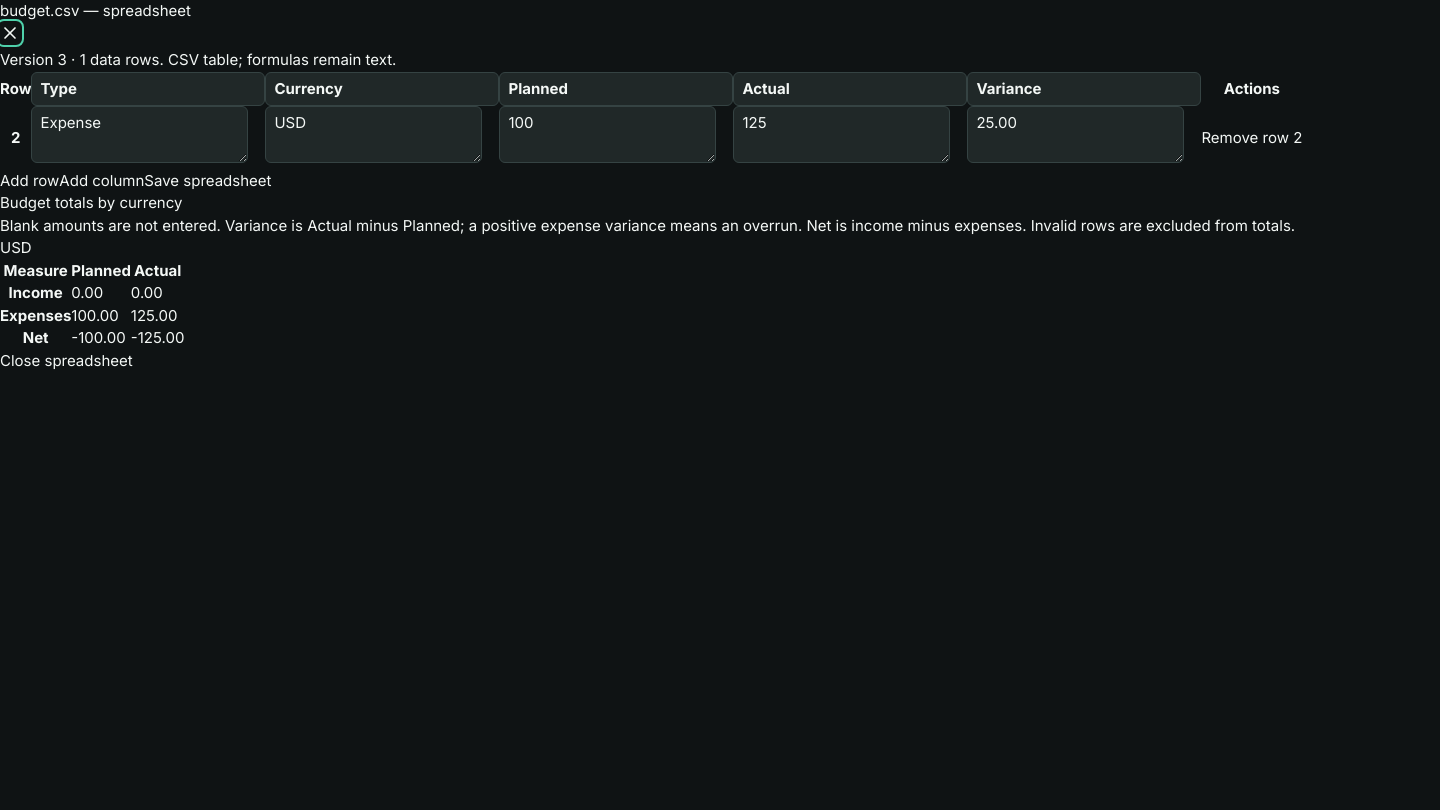
Test: preserves cells after a conflicting save and uses the original version
Replace the text in the text box named "Row 2, Actual" with "150" at point(842, 134), box [733, 106, 950, 163]
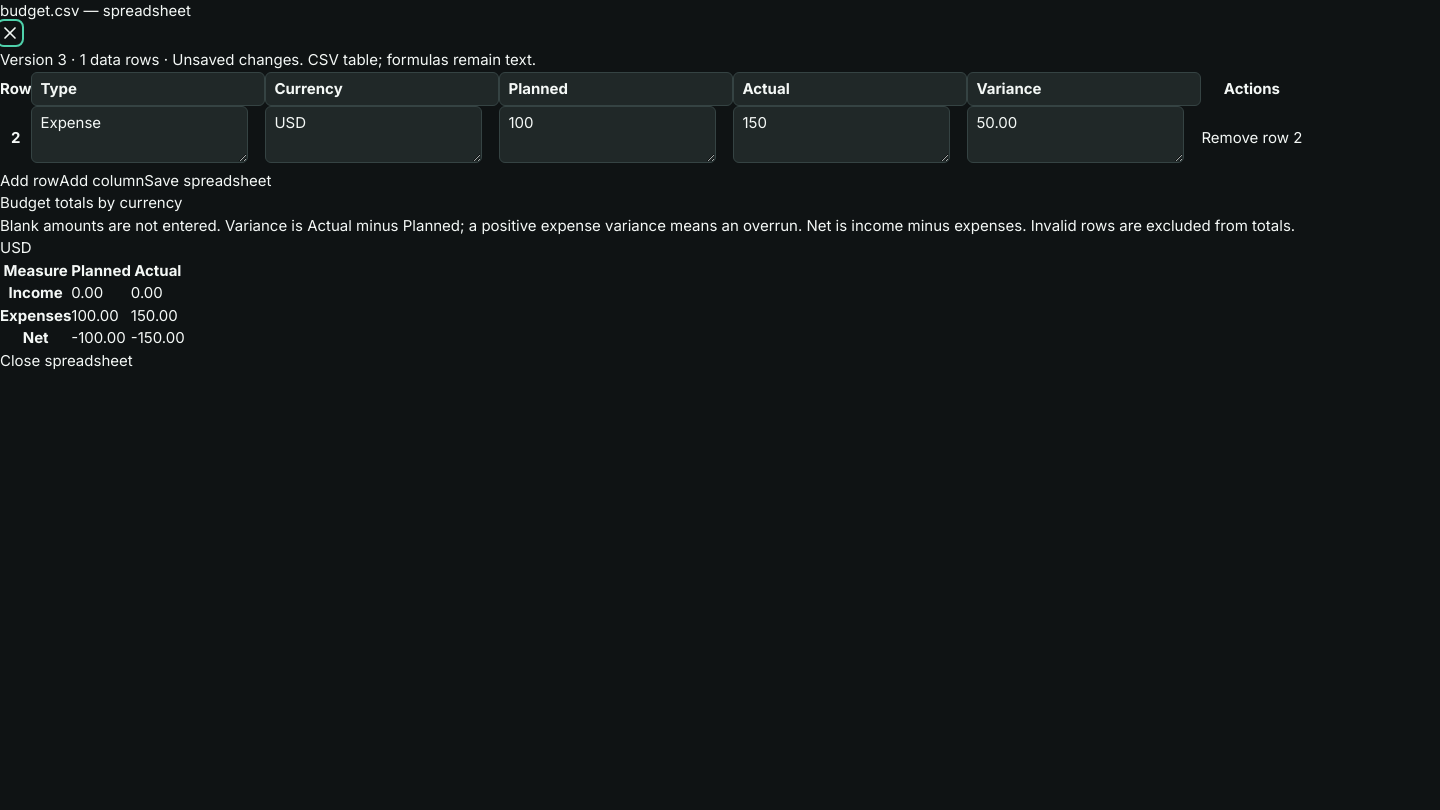
Click the button "Save spreadsheet" at point(208, 181), box [144, 170, 272, 192]
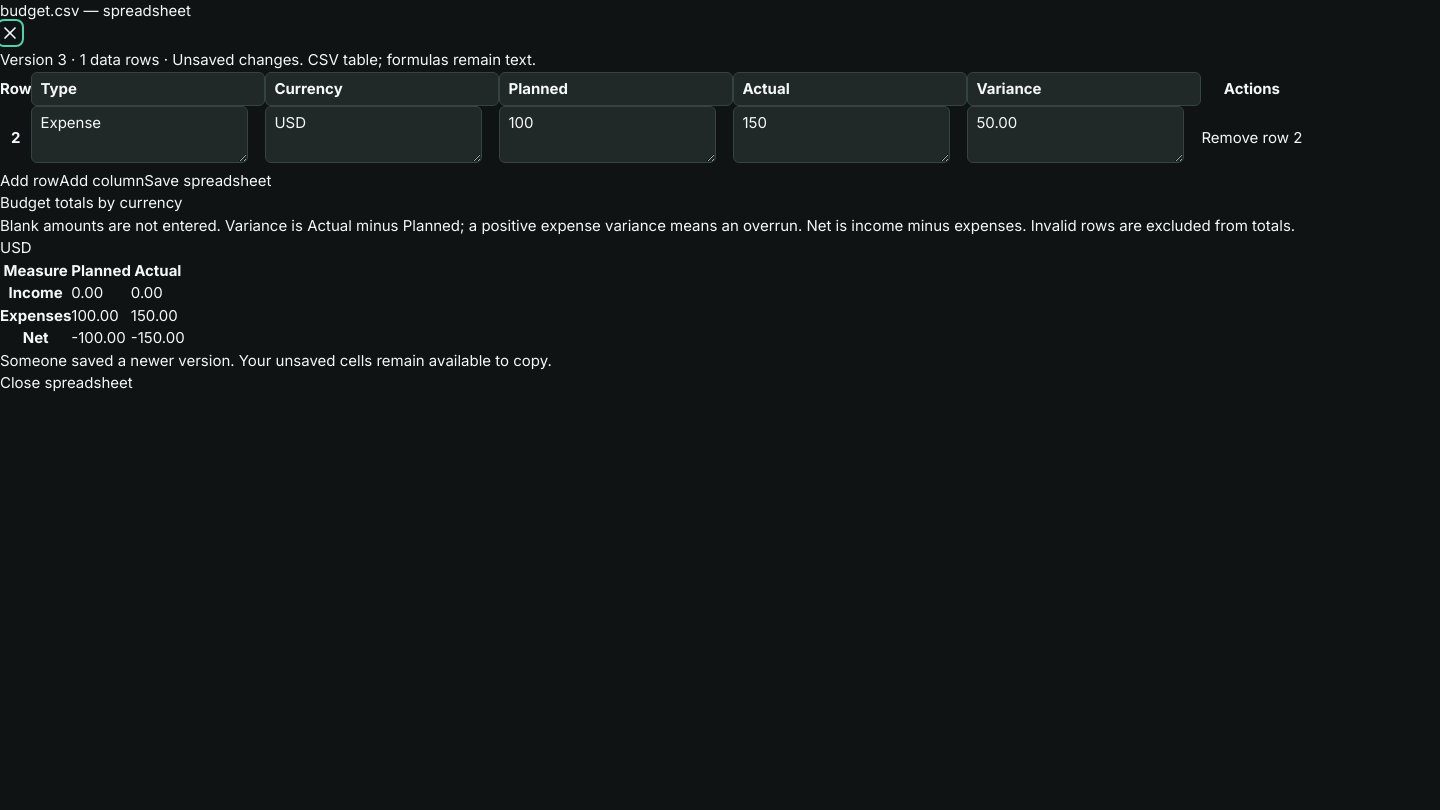
Now the message "Someone saved a newer version. Your unsaved cells remain available to copy." is shown, box [0, 350, 552, 370]
